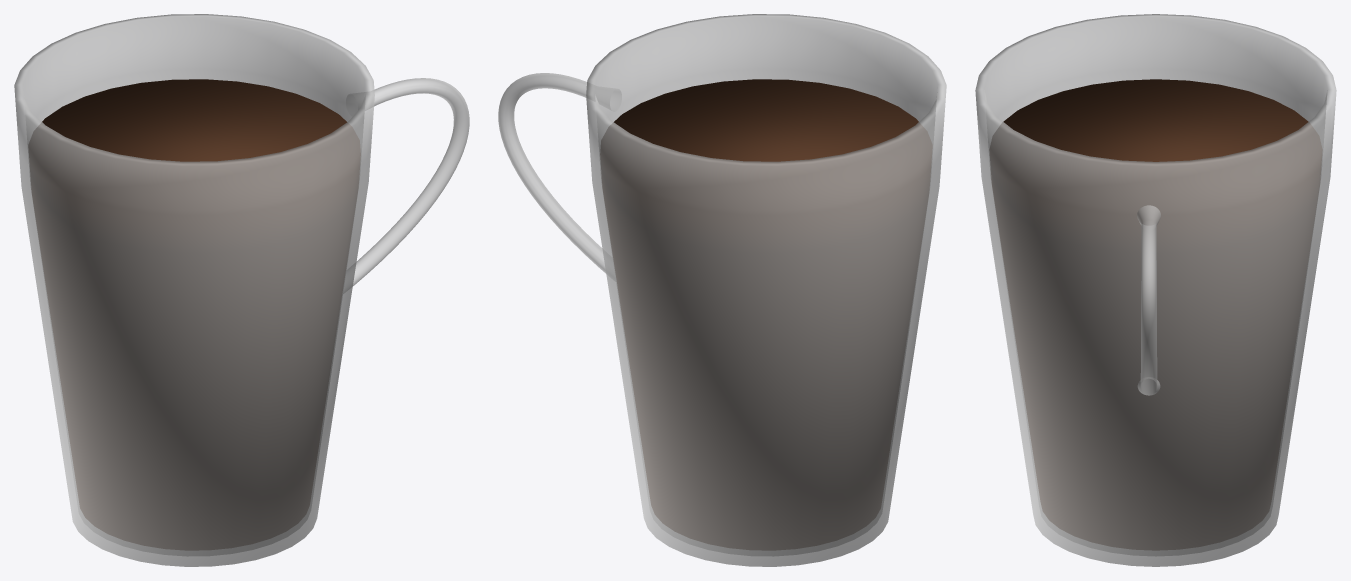
The model's file is tea.glb.
3 renders of one model, left to right at view 1: azimuth 30°, elevation 25°; view 2: azimuth 150°, elevation 25°; view 3: azimuth 270°, elevation 25°, orthographic.
Visible parts, largest first — view 1: Cylinder, Cylinder.021, NurbsCurve; view 2: Cylinder, Cylinder.021, NurbsCurve; view 3: Cylinder, Cylinder.021, NurbsCurve.
Part boxes in pixels (x1,y1,x2,y2): Cylinder: (14, 14, 374, 566); Cylinder.021: (28, 79, 360, 550); NurbsCurve: (344, 78, 469, 292); Cylinder: (586, 14, 946, 566); Cylinder.021: (600, 79, 932, 550); NurbsCurve: (498, 73, 615, 281); Cylinder: (975, 14, 1336, 566); Cylinder.021: (989, 79, 1322, 550); NurbsCurve: (1137, 205, 1160, 395).
Bounding box in the file's own units: 0.3715 × 0.354 × 0.2723.
